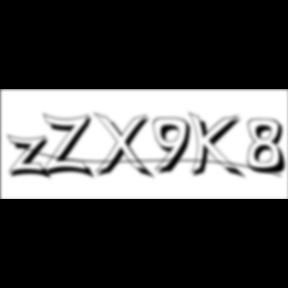9: (154, 117, 198, 177)
K: (188, 110, 248, 182)
X: (93, 112, 157, 182)
Z: (42, 112, 97, 181)
z: (7, 134, 56, 182)
